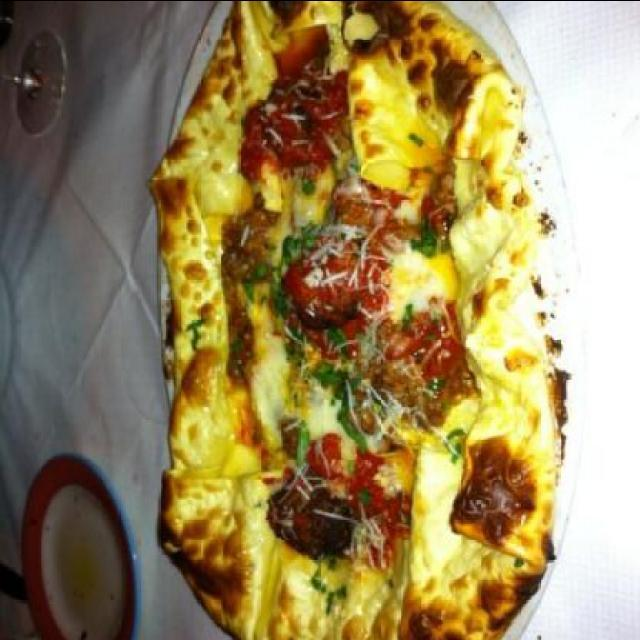Lasagna: (247, 175, 423, 499)
